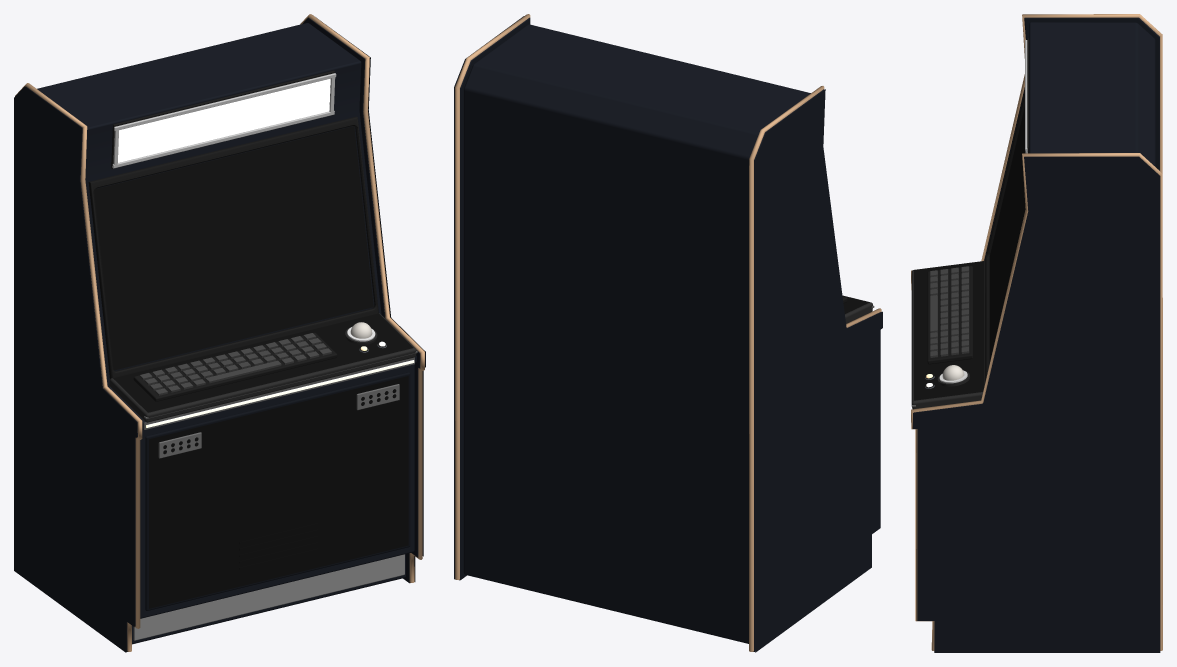
The model's file is mach-nocturne.glb.
The picture shows the model from 3 angles, left to right: view 1: azimuth 30°, elevation 25°; view 2: azimuth 150°, elevation 25°; view 3: azimuth 270°, elevation 25°; orthographic projection. The views are drawn at different scales.
Parts seen in each view (by area): view 1: screen, side_art_l, front_art, glass, body, controls, metal, marquee, trim, deck_art, speaker, side_art_r; view 2: body, side_art_l, trim; view 3: side_art_r, body, controls, trim, deck_art, screen, glass, metal, trackball.
Boxes of the visible parts, x1,y1,x2,y2 form: screen: (94,126,373,370); side_art_l: (14,86,136,652); front_art: (149,376,408,608); glass: (95,126,374,370); body: (25,17,425,651); controls: (88,70,416,569); metal: (112,73,417,640); marquee: (118,78,330,162); trim: (15,14,424,651); deck_art: (113,313,413,412); speaker: (158,384,399,458); side_art_r: (316,17,425,581); body: (459,17,881,651); side_art_l: (755,89,882,652); trim: (455,14,881,651); side_art_r: (913,157,1160,652); body: (914,17,1159,412); controls: (911,38,1028,409); trim: (911,14,1162,650); deck_art: (914,261,984,400); screen: (989,107,1025,363); glass: (987,97,1024,366); metal: (911,40,1027,407); trackball: (937,365,969,386).
Bounding box in the file's own units: 0.953 × 1.56 × 0.7132.
